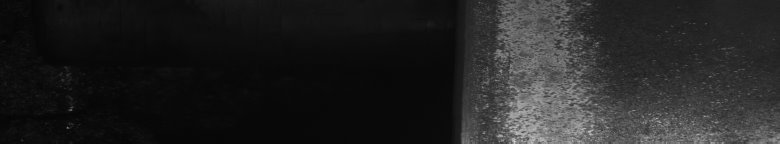kb: (476, 4, 744, 136)
